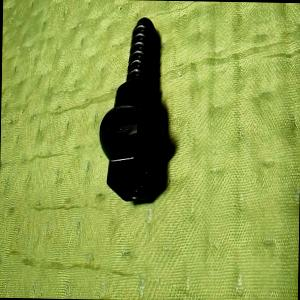parafuso: (98, 16, 168, 202)
